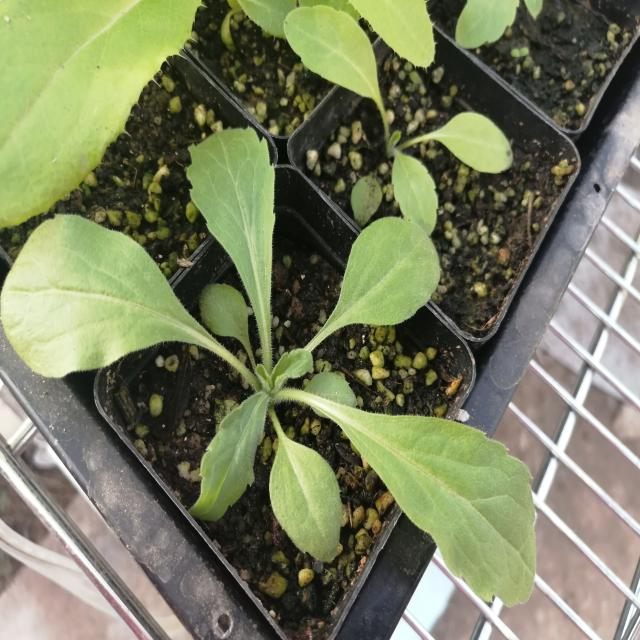horseweed: (20, 160, 530, 598)
